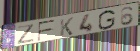4: (78, 13, 96, 33)
6: (120, 6, 135, 27)
F: (37, 18, 56, 43)
G: (98, 9, 117, 31)
K: (59, 16, 75, 37)
Z: (17, 23, 36, 45)
